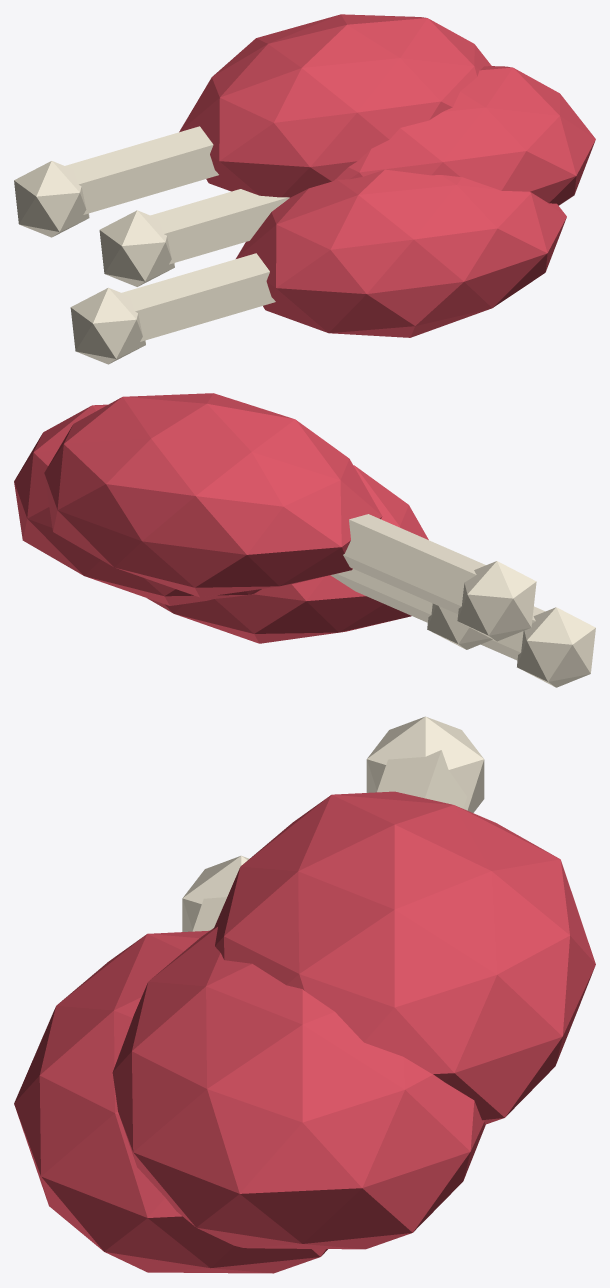
Rendered from item_011_meat_m.glb.
3 renders of one model, top to bottom at view 1: azimuth 30°, elevation 25°; view 2: azimuth 150°, elevation 25°; view 3: azimuth 270°, elevation 25°, orthographic. The views are drawn at different scales.
Parts seen in each view (by area): view 1: item_011_meat_m; view 2: item_011_meat_m; view 3: item_011_meat_m.
Boxes of the visible parts, x1,y1,x2,y2 form: item_011_meat_m: [14, 14, 595, 364]; item_011_meat_m: [14, 393, 595, 687]; item_011_meat_m: [14, 716, 595, 1273].
Size of the model in its own units: 0.6365 by 0.2905 by 0.379.
